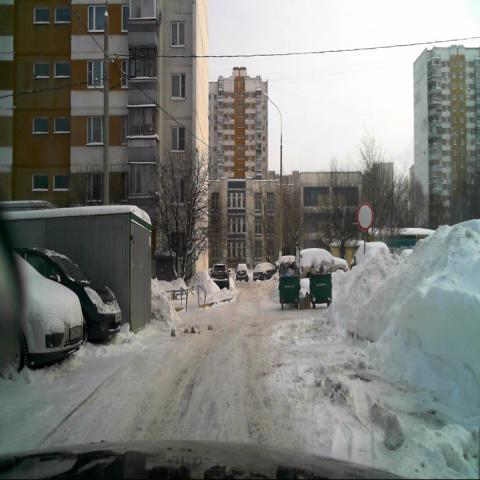3_2: (356, 201, 374, 231)
